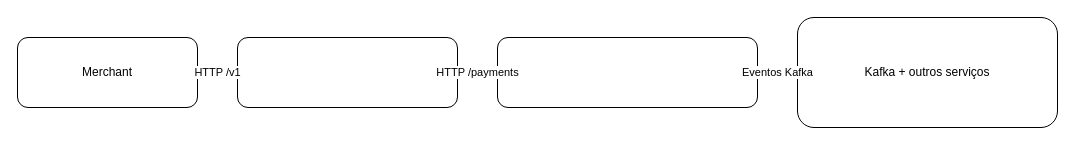
The diagram is 1075 pixels wide and 145 high, and some of its shapes have lost their labels. The box of each missing label's shape, as (x1, y1, x2, y2) in pixels:
acquirer-core\n(core + outbox): (496, 36, 758, 108)
merchant-api\n(BFF/Facade): (236, 36, 458, 108)
